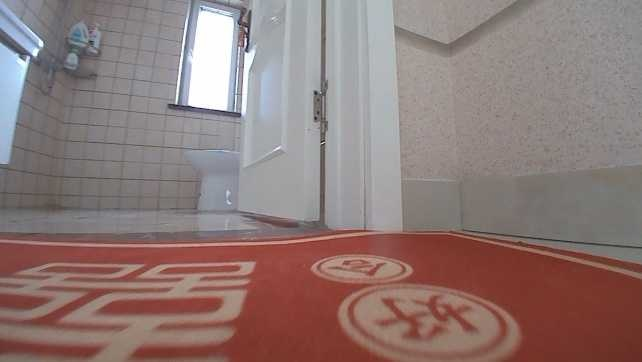blanket: (0, 226, 641, 361)
door_anno: (232, 0, 329, 225)
toilet: (180, 144, 239, 214)
